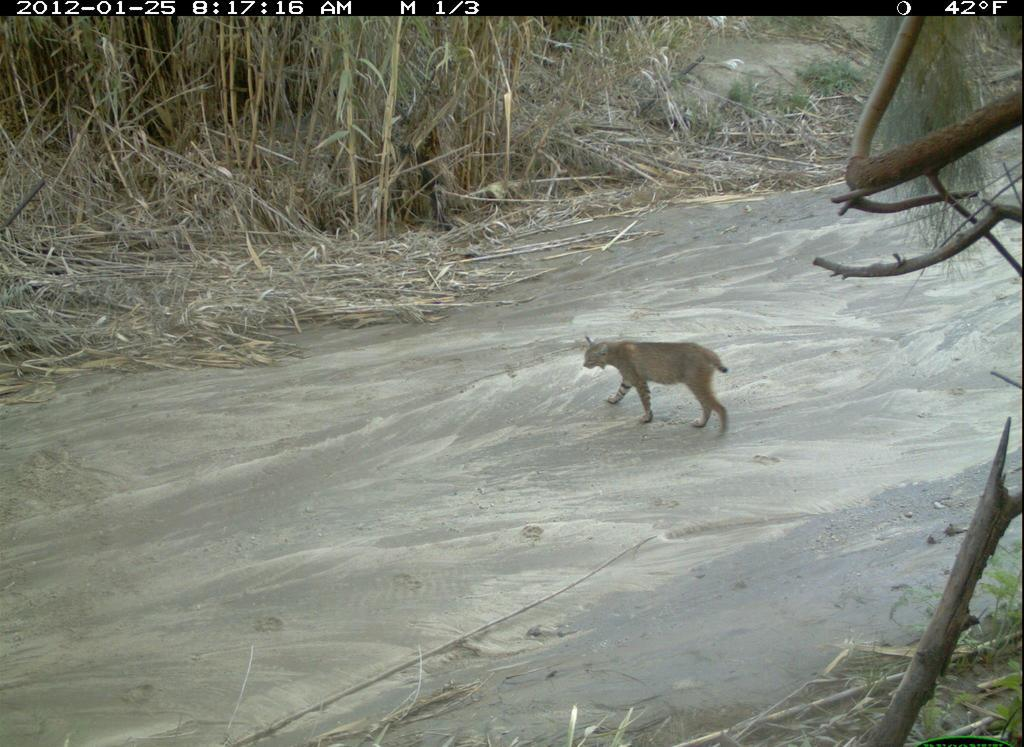bobcat: (575, 326, 738, 440)
